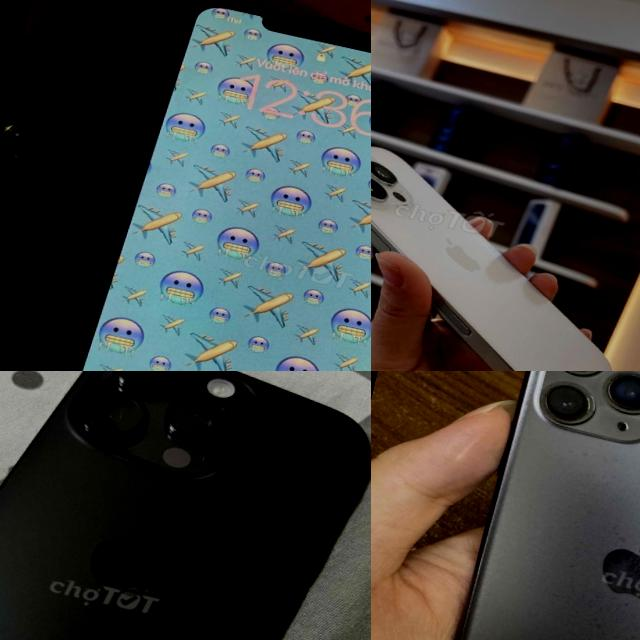gen_11: (410, 371, 640, 640)
gen_16: (0, 371, 371, 640), (371, 145, 609, 371)
gen_x_xs: (39, 0, 371, 371)
